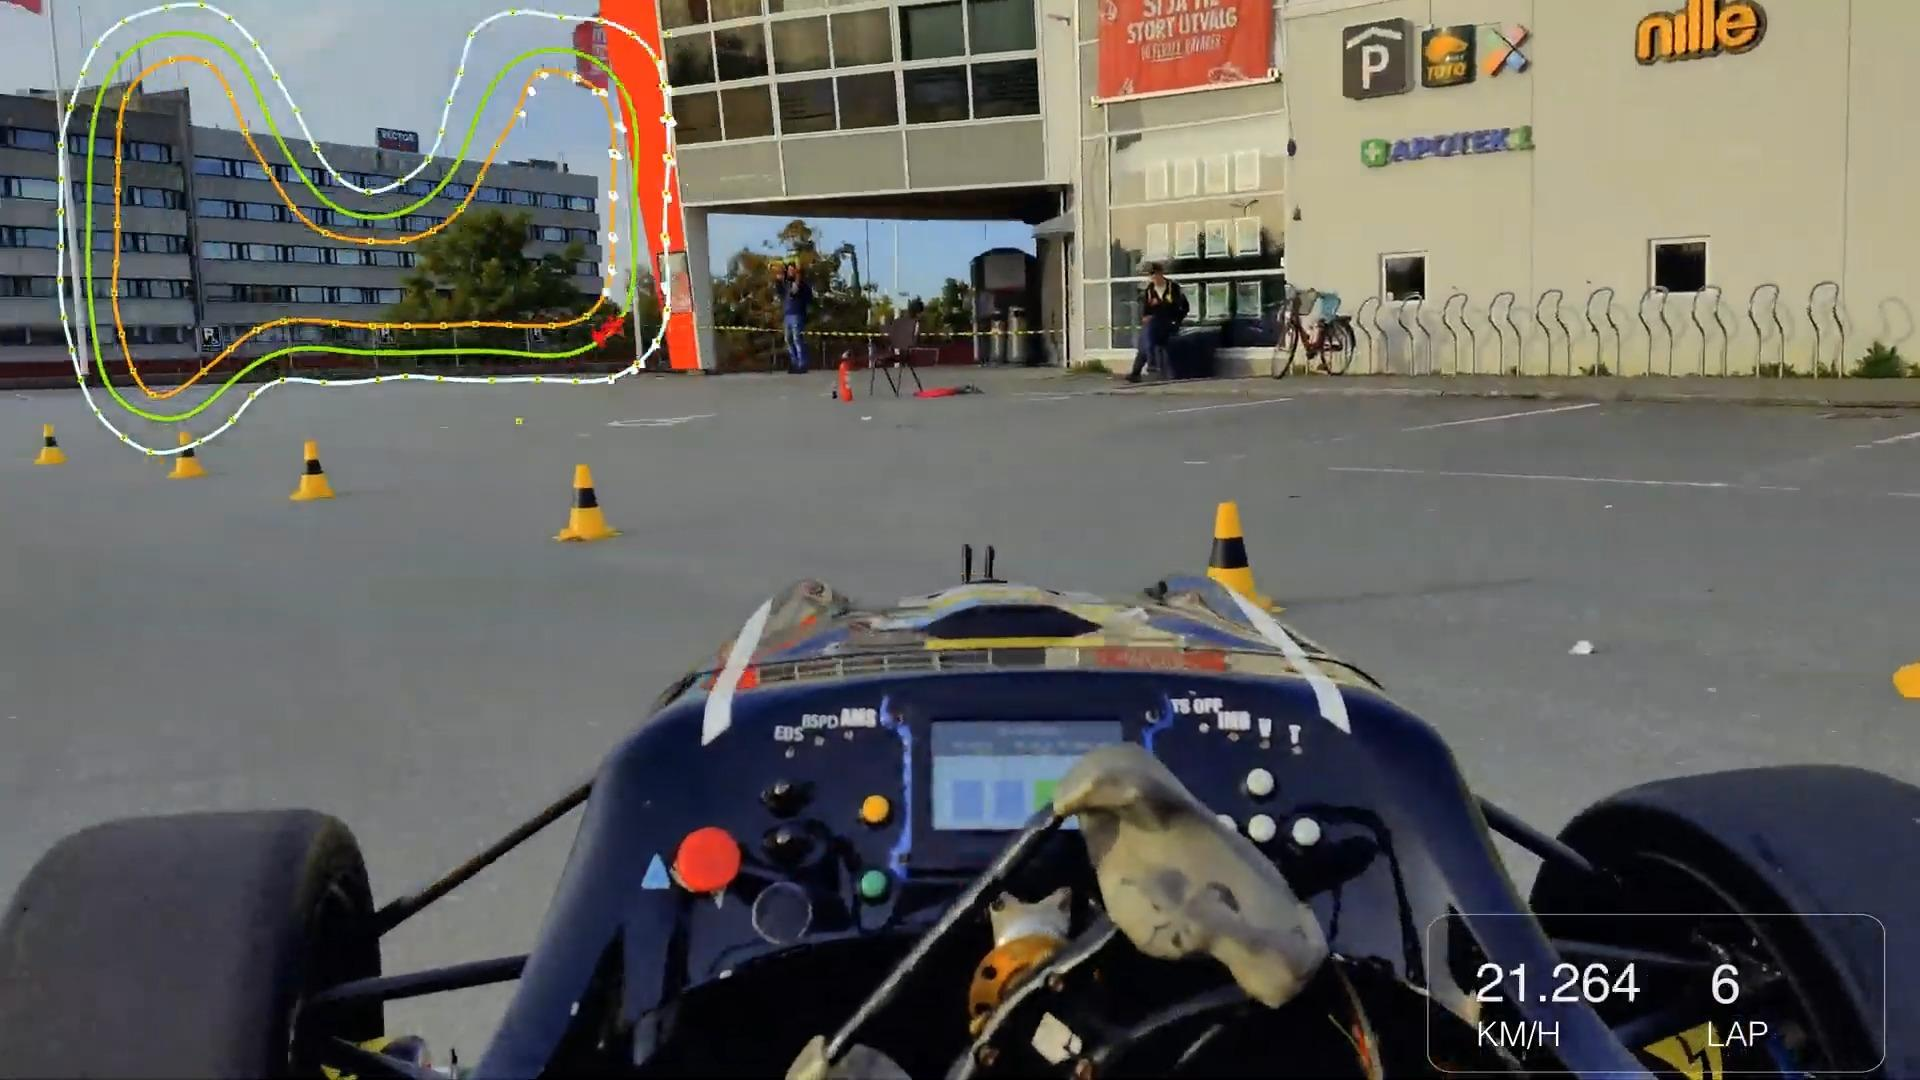yellow_cone: (1204, 493, 1269, 605), (556, 460, 622, 546), (282, 429, 343, 510), (33, 415, 71, 473), (1891, 637, 1920, 708), (161, 451, 216, 488)
